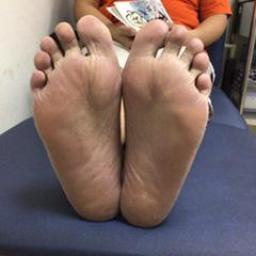Plantar View -Both Feet-: (26, 10, 216, 234)
